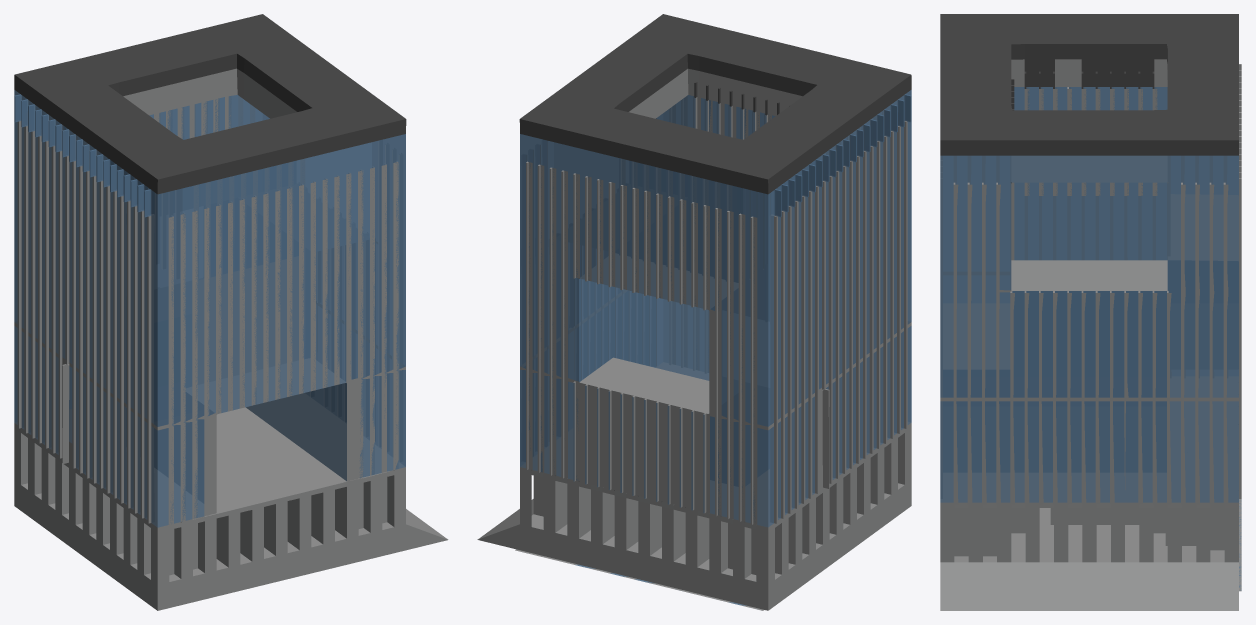
File: amorepacific_fix.fbx
3 views of the same model, side by side, from view 1: azimuth 30°, elevation 25°; view 2: azimuth 150°, elevation 25°; view 3: azimuth 270°, elevation 25° (orthographic). The views are drawn at different scales.
Parts seen in each view (by area): view 1: AmorePacific.001; view 2: AmorePacific.001; view 3: AmorePacific.001.
Boxes of the visible parts, box(x1,y1,x2,y2) form: AmorePacific.001: box(14, 14, 448, 610); AmorePacific.001: box(477, 14, 911, 610); AmorePacific.001: box(940, 14, 1241, 610).
Bounding box in the file's own units: 4654 × 6454 × 3928.
